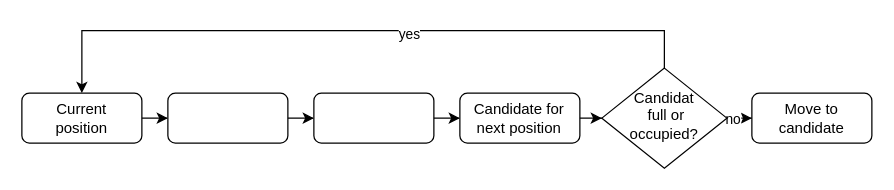
This 894x190 diagram has some shape labels left out. The centre of each missing label's shape, as x and y in pixels:
"Movement vector" goes at pixel 373 117.
"Neighborhood probabilities" goes at pixel 227 117.
